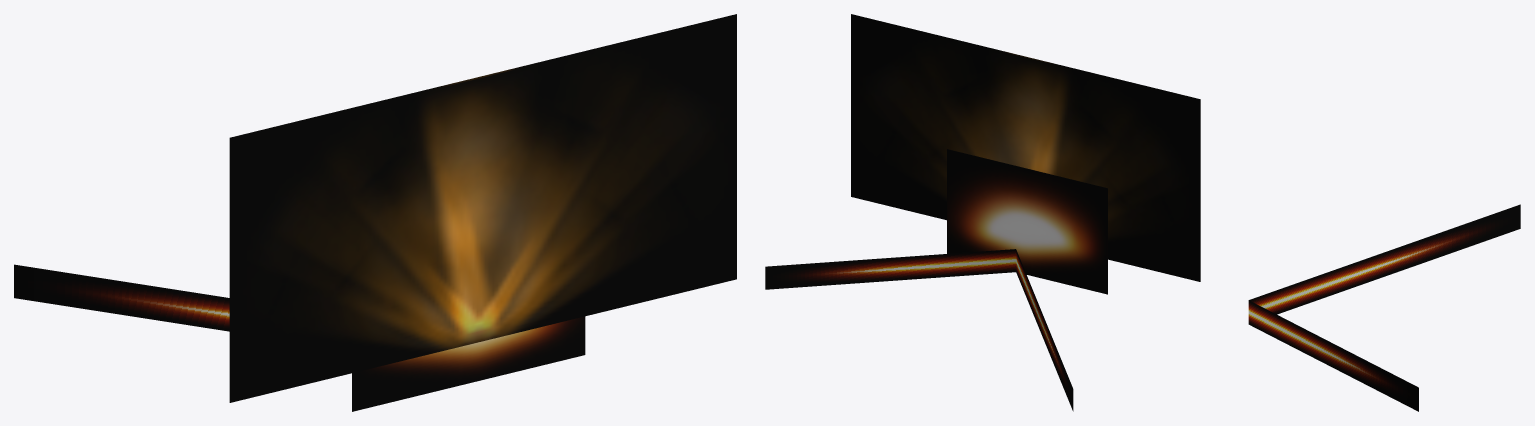
File: effect_baoxiang.FBX
3 renders of one model, left to right at view 1: azimuth 30°, elevation 25°; view 2: azimuth 150°, elevation 25°; view 3: azimuth 270°, elevation 25°, orthographic. The views are drawn at different scales.
Parts seen in each view (by area): view 1: effect_baoxiang_guangmang_1, effect_baoxiang_open_2, effect_baoxiang_open_1; view 2: effect_baoxiang_guangmang_1, effect_baoxiang_open_2, effect_baoxiang_open_1; view 3: effect_baoxiang_open_1.
Boxes of the visible parts, x1=… form: effect_baoxiang_guangmang_1: x1=229, y1=14, x2=736, y2=402; effect_baoxiang_open_2: x1=352, y1=316, x2=585, y2=411; effect_baoxiang_open_1: x1=14, y1=264, x2=229, y2=331; effect_baoxiang_guangmang_1: x1=851, y1=14, x2=1200, y2=281; effect_baoxiang_open_2: x1=947, y1=149, x2=1107, y2=294; effect_baoxiang_open_1: x1=765, y1=249, x2=1073, y2=411; effect_baoxiang_open_1: x1=1248, y1=204, x2=1520, y2=411.
Bounding box in the file's own units: 212 × 120 × 141.
3 materials, 3 textured.
